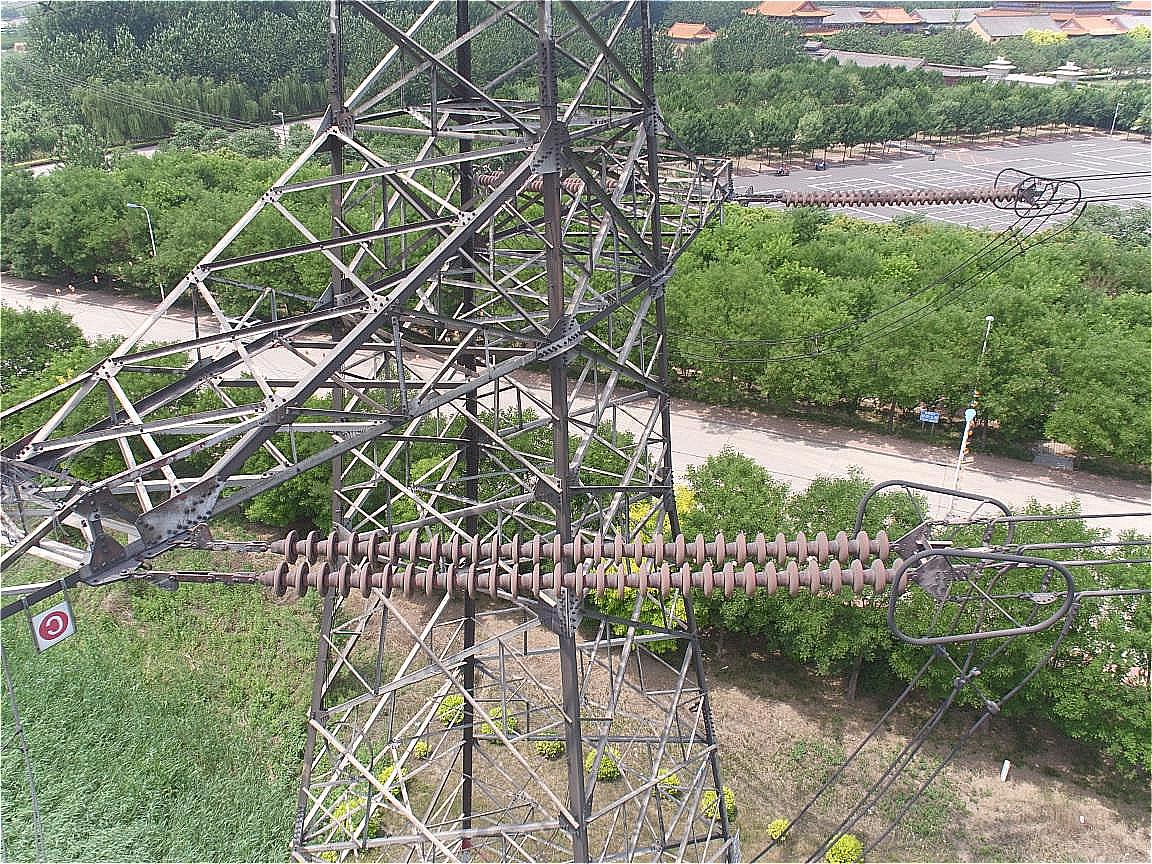insultor1: (243, 511, 966, 635), (759, 171, 1057, 210)
